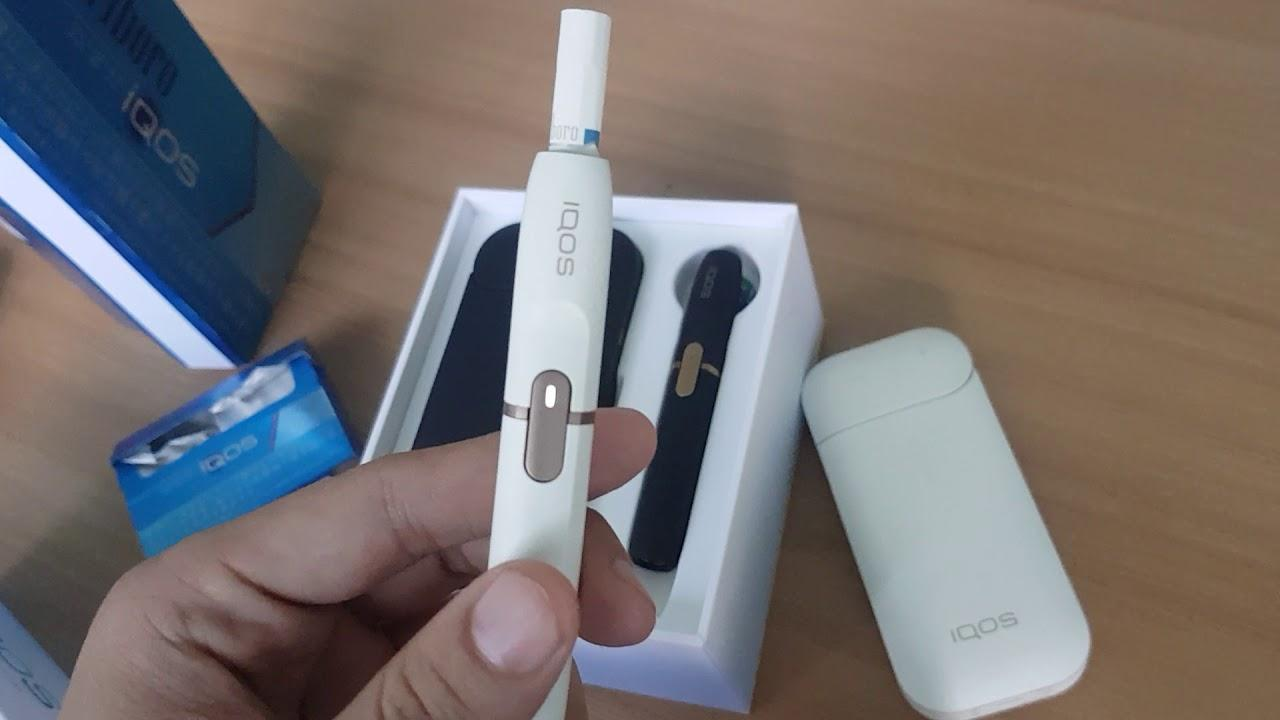iqos: (487, 9, 611, 587)
